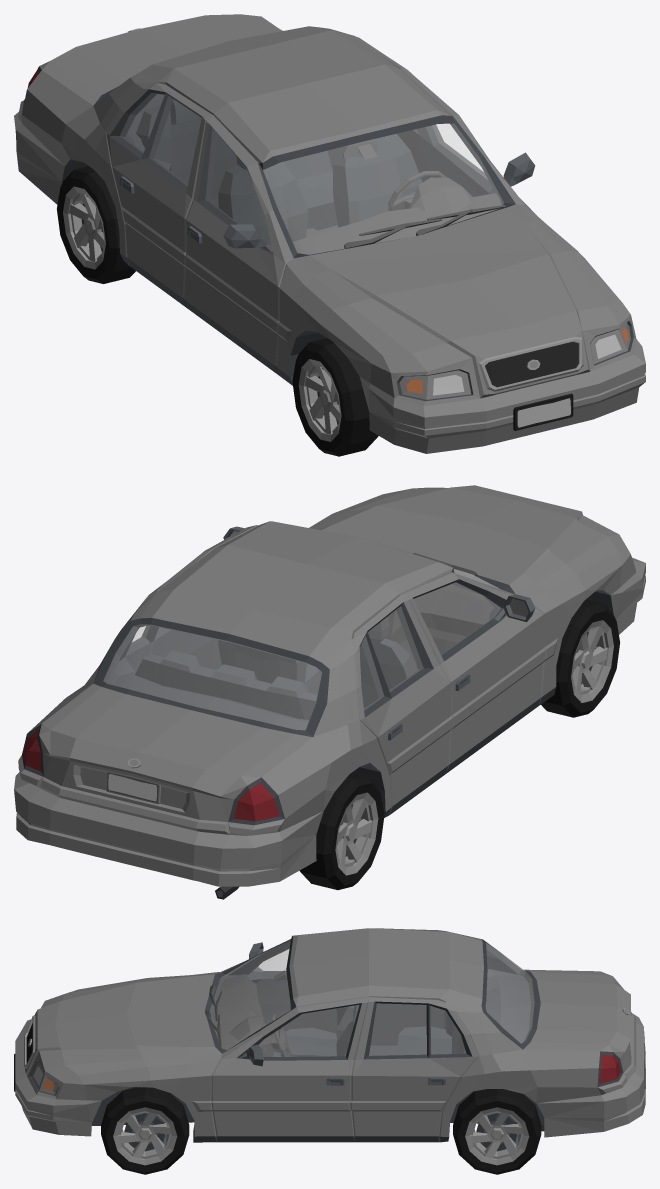
File: sedan.glb
3 renders of one model, top to bottom at view 1: azimuth 30°, elevation 25°; view 2: azimuth 150°, elevation 25°; view 3: azimuth 270°, elevation 25°, orthographic. The views are drawn at different scales.
Visible parts, largest first — view 1: sedan; view 2: sedan; view 3: sedan.
Boxes of the visible parts, x1,y1,x2,y2 form: sedan: [14, 14, 645, 456]; sedan: [14, 485, 645, 899]; sedan: [14, 928, 645, 1174].
Size of the model in its own units: 2.17 by 1.54 by 5.18.
Materials: 2 (1 with a texture image).
